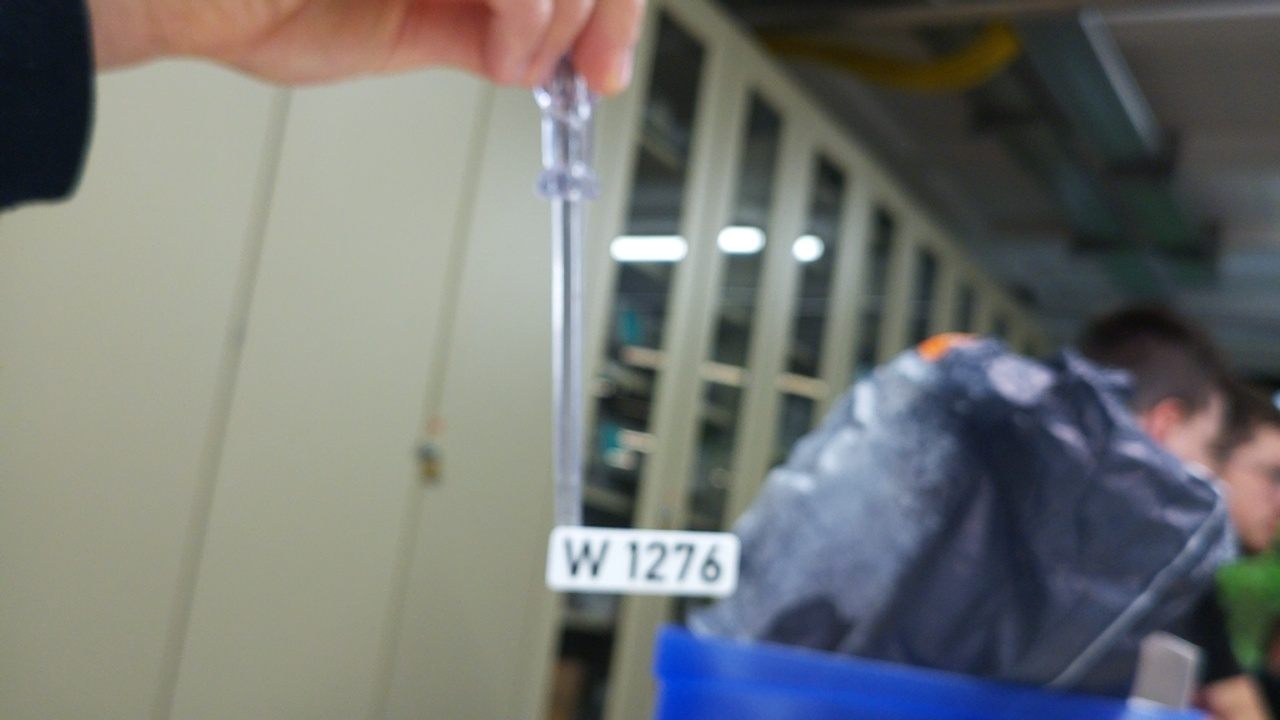license_plate: (543, 523, 744, 601)
